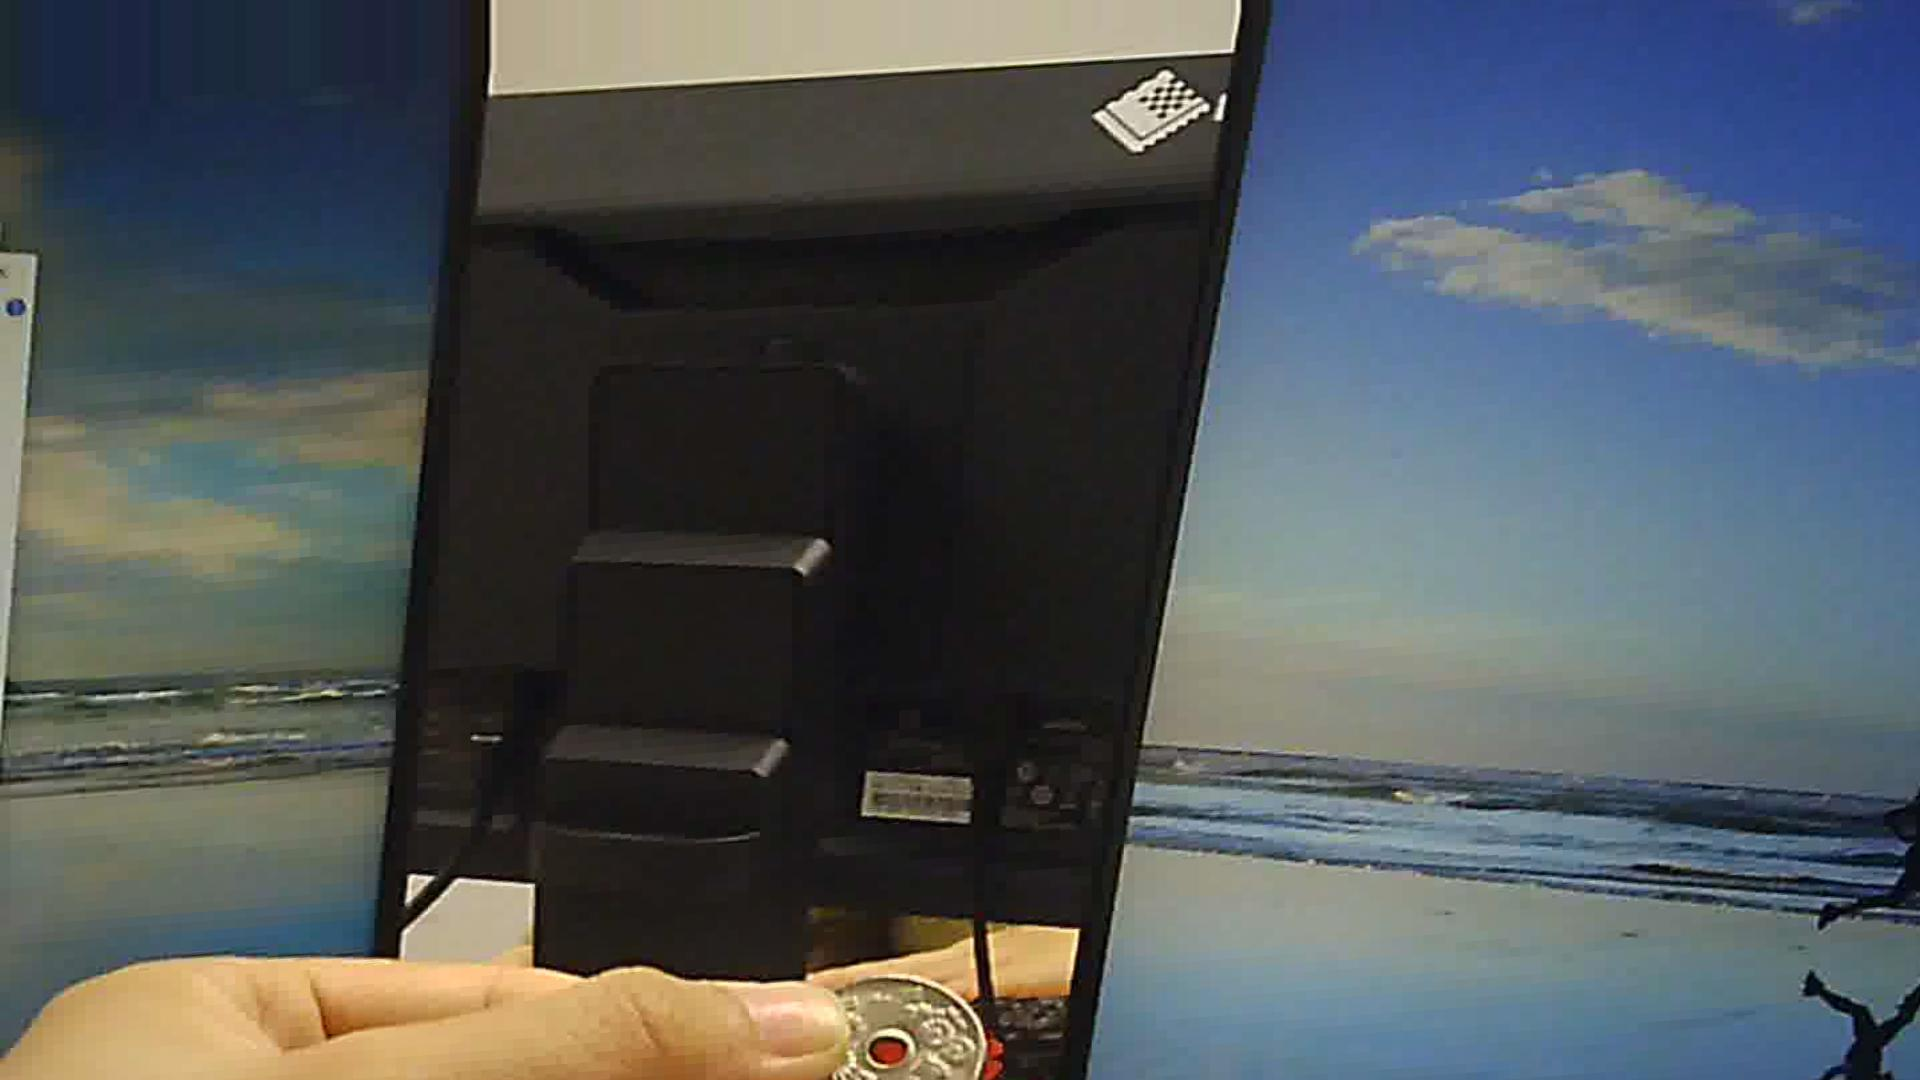50 Yen: (803, 959, 992, 1079)
